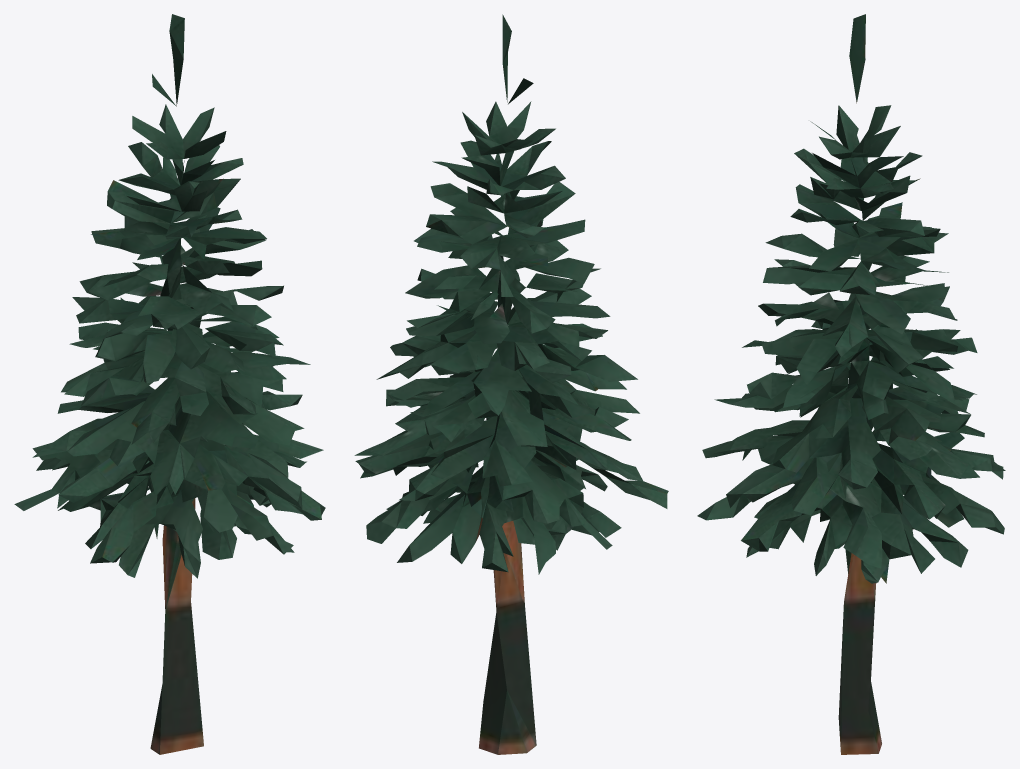
Rendered from pine.glb.
3 renders of one model, left to right at view 1: azimuth 30°, elevation 25°; view 2: azimuth 150°, elevation 25°; view 3: azimuth 270°, elevation 25°, orthographic.
Bounding box in the file's own units: 0.7222 × 1.87 × 0.7173.
1 material, 1 textured.
